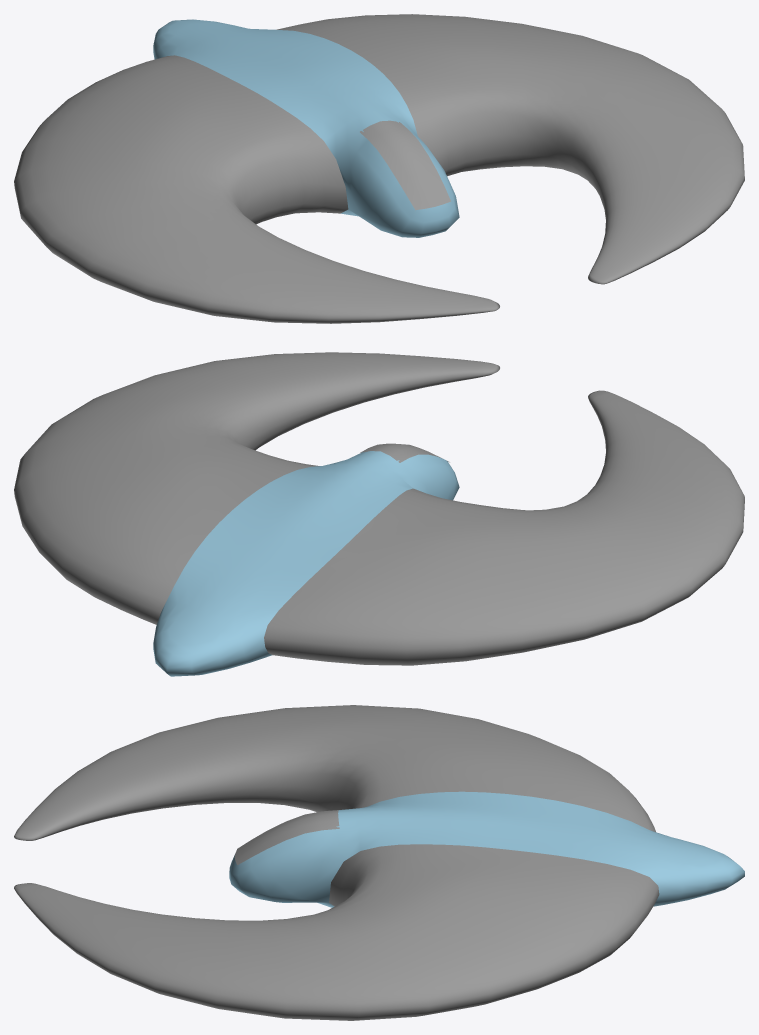
File: nave 1.FBX
The picture shows the model from 3 angles, top to bottom: view 1: azimuth 30°, elevation 25°; view 2: azimuth 150°, elevation 25°; view 3: azimuth 270°, elevation 25°; orthographic projection. The views are drawn at different scales.
Parts seen in each view (by area): view 1: alas, cuerpo, cristal; view 2: alas, cuerpo, cristal; view 3: alas, cuerpo, cristal.
Boxes of the visible parts, x1=… form: alas: x1=14, y1=14, x2=744, y2=323; cuerpo: x1=153, y1=19, x2=459, y2=237; cristal: x1=360, y1=120, x2=450, y2=210; alas: x1=14, y1=352, x2=744, y2=665; cuerpo: x1=153, y1=451, x2=459, y2=676; cristal: x1=360, y1=443, x2=449, y2=462; alas: x1=14, y1=705, x2=659, y2=1020; cuerpo: x1=229, y1=791, x2=744, y2=907; cristal: x1=234, y1=810, x2=339, y2=864.
Bounding box in the file's own units: 60.91 × 8.78 × 62.65.
